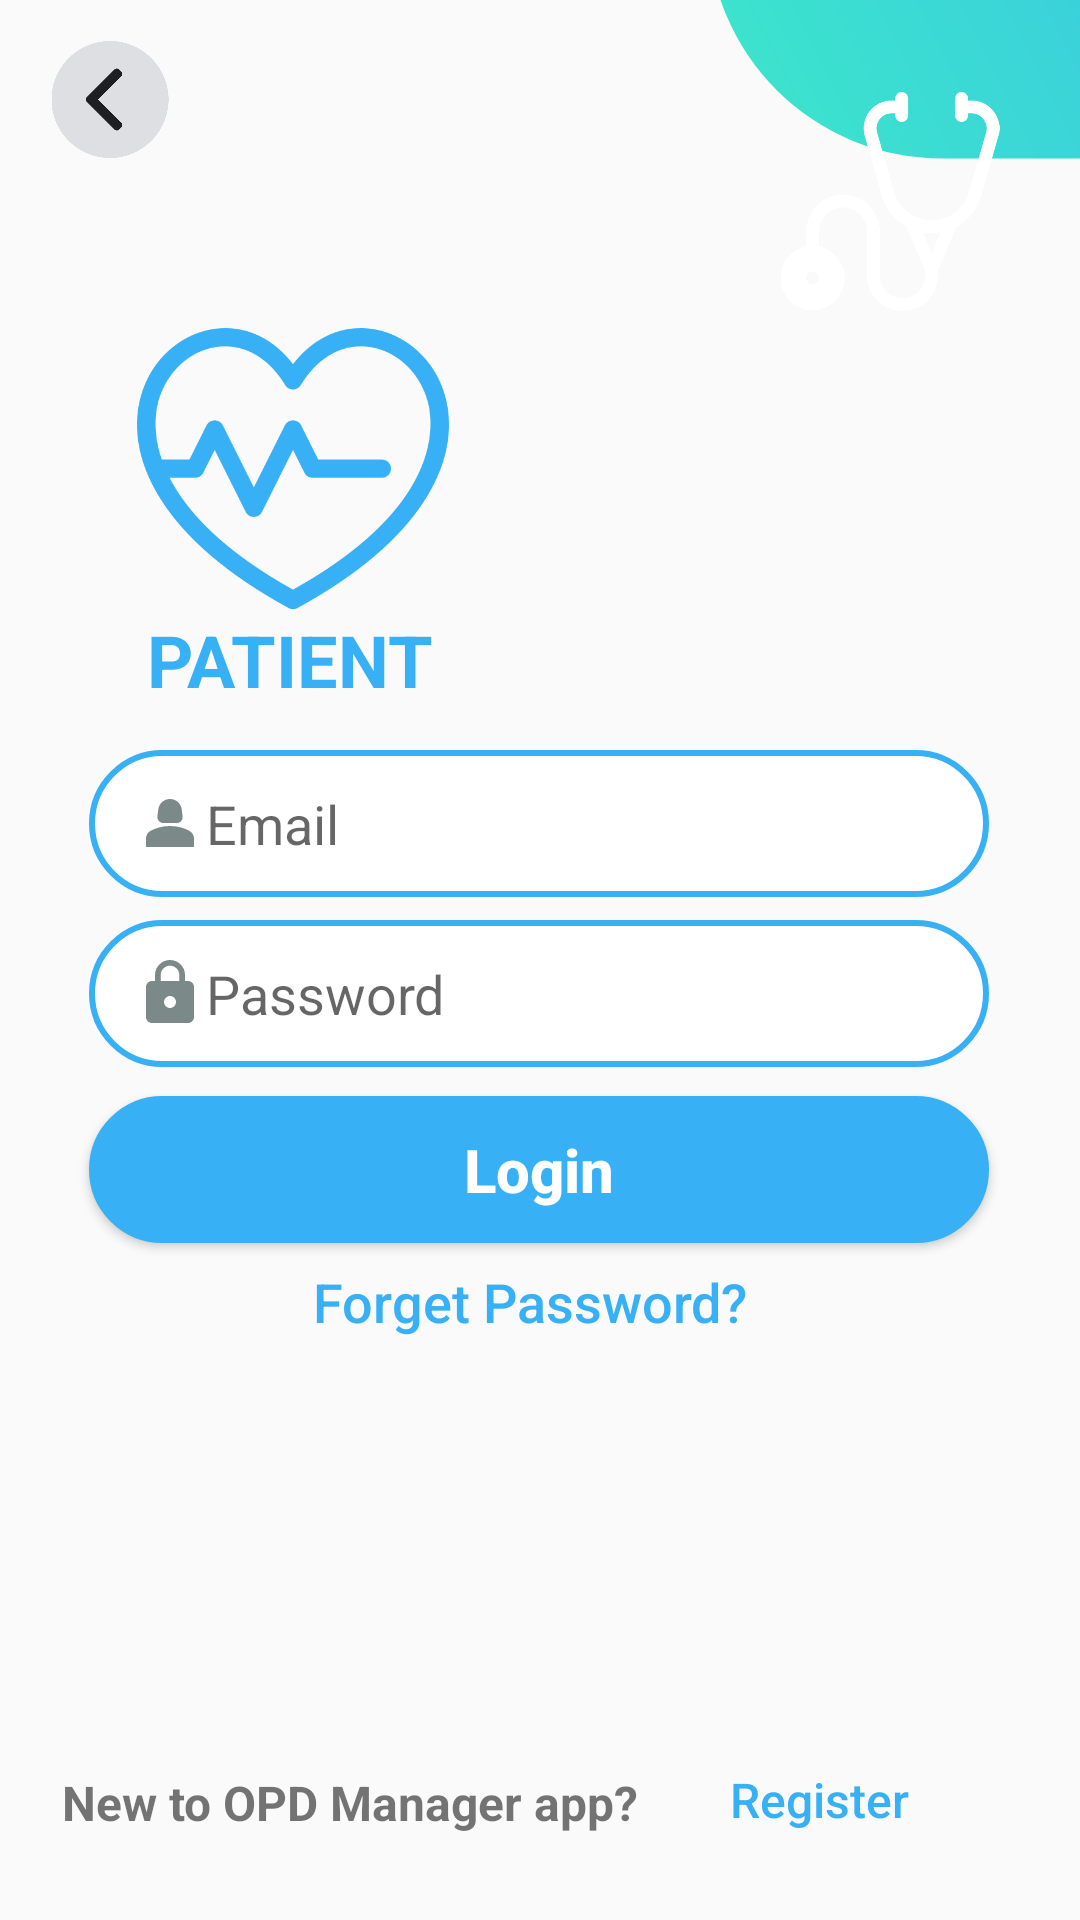

Icon click points for this 1080px x 1920px phone screenshot, format point (x, y):
heart attack: point (293, 469)
